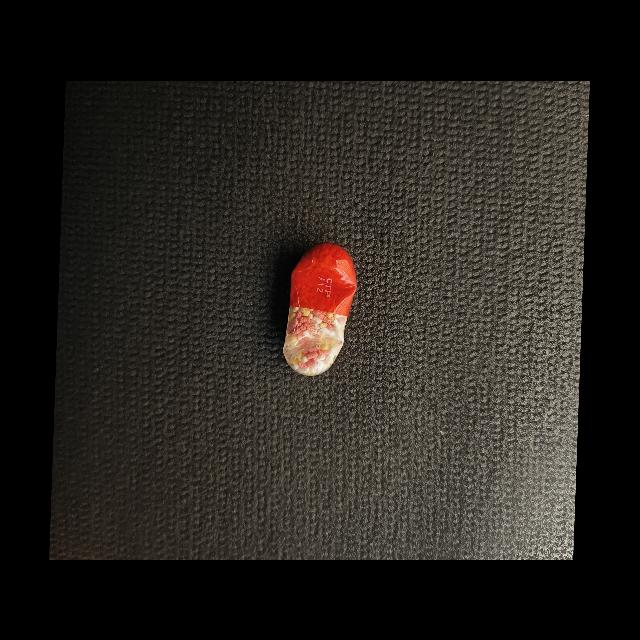Defective Capsule: (283, 242, 357, 376)
